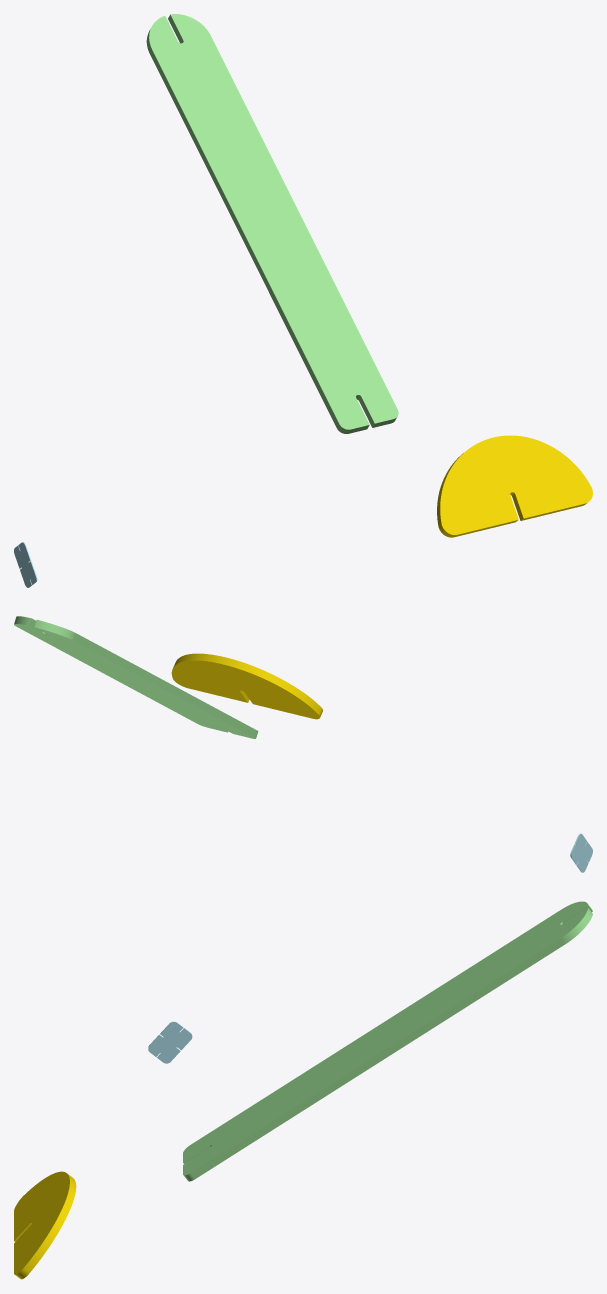
3 renders of one model, top to bottom at view 1: azimuth 30°, elevation 25°; view 2: azimuth 150°, elevation 25°; view 3: azimuth 270°, elevation 25°, orthographic. The views are drawn at different scales.
Visible parts, largest first — view 1: Componente3, Componente2; view 2: Componente3, Componente2, Componente1; view 3: Componente3, Componente2, Componente1.
Part boxes in pixels (x1,y1,x2,y2): Componente3: [146, 14, 398, 433]; Componente2: [437, 435, 592, 537]; Componente3: [14, 616, 258, 738]; Componente2: [171, 653, 322, 719]; Componente1: [570, 833, 592, 872]; Componente3: [183, 901, 592, 1181]; Componente2: [14, 1171, 76, 1279]; Componente1: [148, 1021, 192, 1063].
Bounding box in the file's own units: 687 × 440 × 705.
